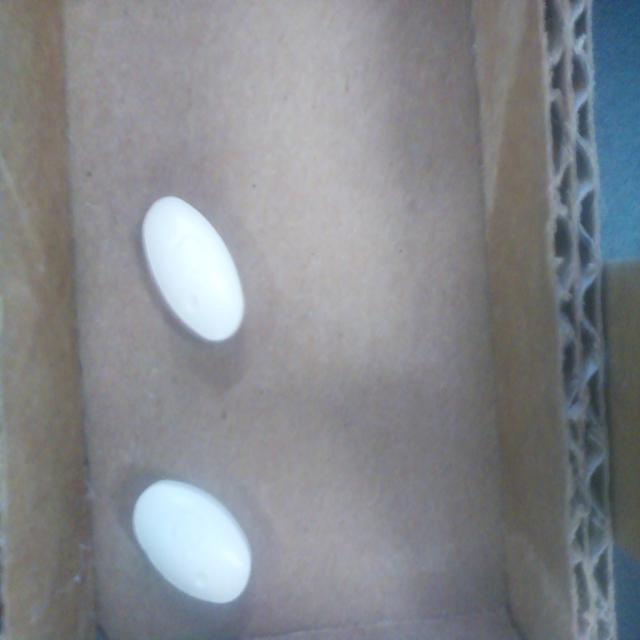pill: (142, 194, 246, 344), (134, 479, 254, 604)
